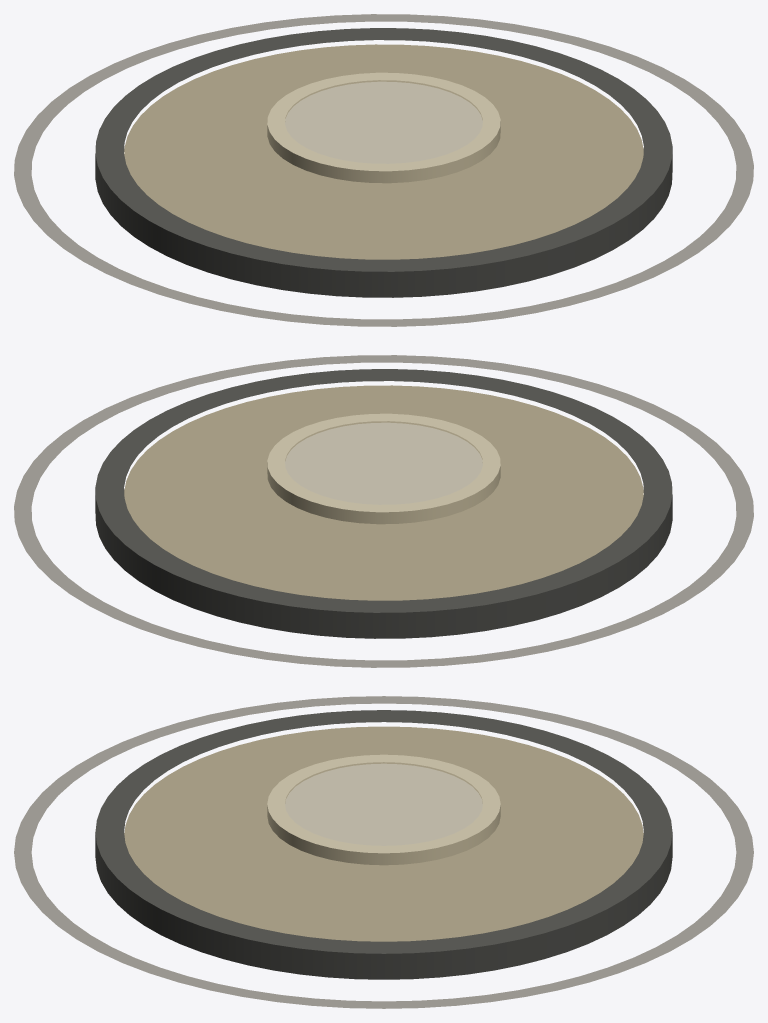
Rendered from z3b_bullinger_brunnen.glb.
The picture shows the model from 3 angles, top to bottom: view 1: azimuth 30°, elevation 25°; view 2: azimuth 150°, elevation 25°; view 3: azimuth 270°, elevation 25°; orthographic projection.
Visible parts, largest first — view 1: z3b_bullinger_brunnen; view 2: z3b_bullinger_brunnen; view 3: z3b_bullinger_brunnen.
Part boxes in pixels (<box>): z3b_bullinger_brunnen: <box>14,14,753,326</box>; z3b_bullinger_brunnen: <box>14,355,753,667</box>; z3b_bullinger_brunnen: <box>14,696,753,1008</box>.
Bounding box in the file's own units: 16.8 × 1.35 × 16.8.
1 material, 1 textured.
